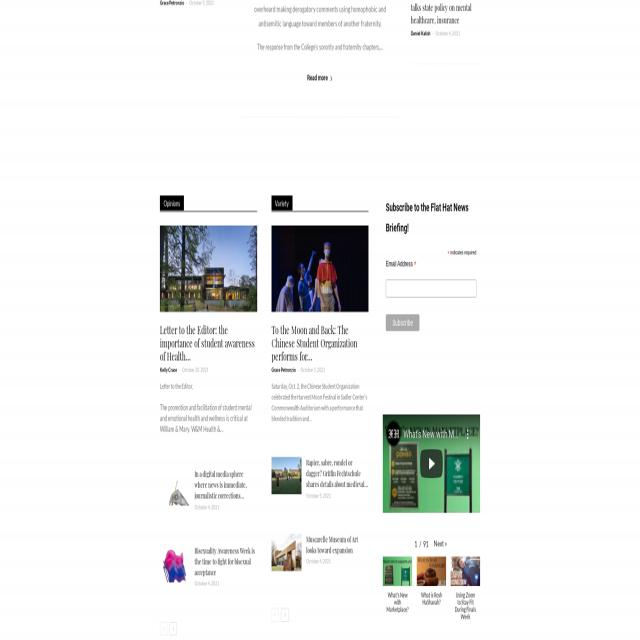button: (160, 226, 256, 437), (272, 226, 368, 432), (383, 414, 480, 513), (160, 546, 257, 593), (271, 534, 365, 581), (272, 458, 372, 502), (160, 468, 250, 514), (383, 555, 412, 620), (451, 556, 480, 621), (417, 556, 446, 620), (302, 69, 338, 87), (420, 451, 443, 478), (386, 314, 420, 331), (386, 421, 402, 446), (463, 424, 472, 446), (271, 608, 279, 622), (281, 608, 288, 622), (160, 622, 168, 634), (170, 623, 177, 636)
field: (386, 279, 476, 297)
